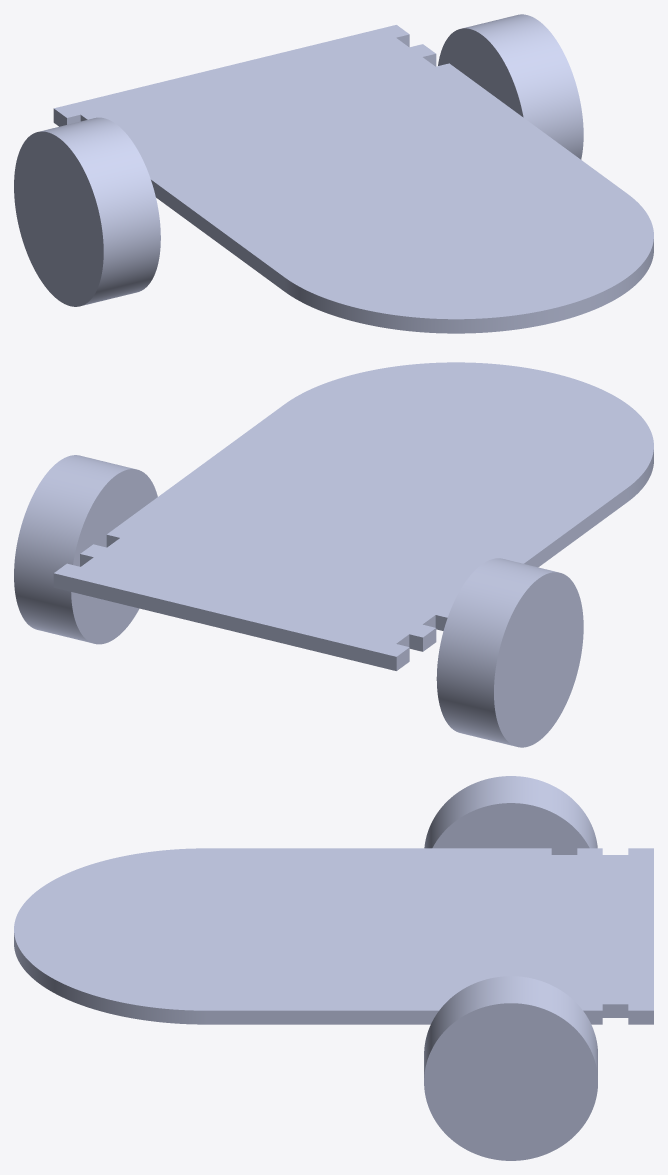
The model's file is car2.FBX.
3 views of the same model, one above another, from view 1: azimuth 30°, elevation 25°; view 2: azimuth 150°, elevation 25°; view 3: azimuth 270°, elevation 25° (orthographic). The views are drawn at different scales.
Parts seen in each view (by area): view 1: 填料-伸長1, 填料-伸長2 (×2); view 2: 填料-伸長1, 填料-伸長2 (×2); view 3: 填料-伸長1, 填料-伸長2 (×2).
Boxes of the visible parts, bbox=[...] form: 填料-伸長1: bbox=[53, 25, 653, 333]; 填料-伸長2 (×2): bbox=[14, 14, 583, 306]; 填料-伸長1: bbox=[53, 362, 653, 670]; 填料-伸長2 (×2): bbox=[14, 455, 583, 747]; 填料-伸長1: bbox=[14, 848, 653, 1024]; 填料-伸長2 (×2): bbox=[424, 776, 597, 1160].
Bounding box in the file's own units: 8.27 × 2.68 × 9.84.
